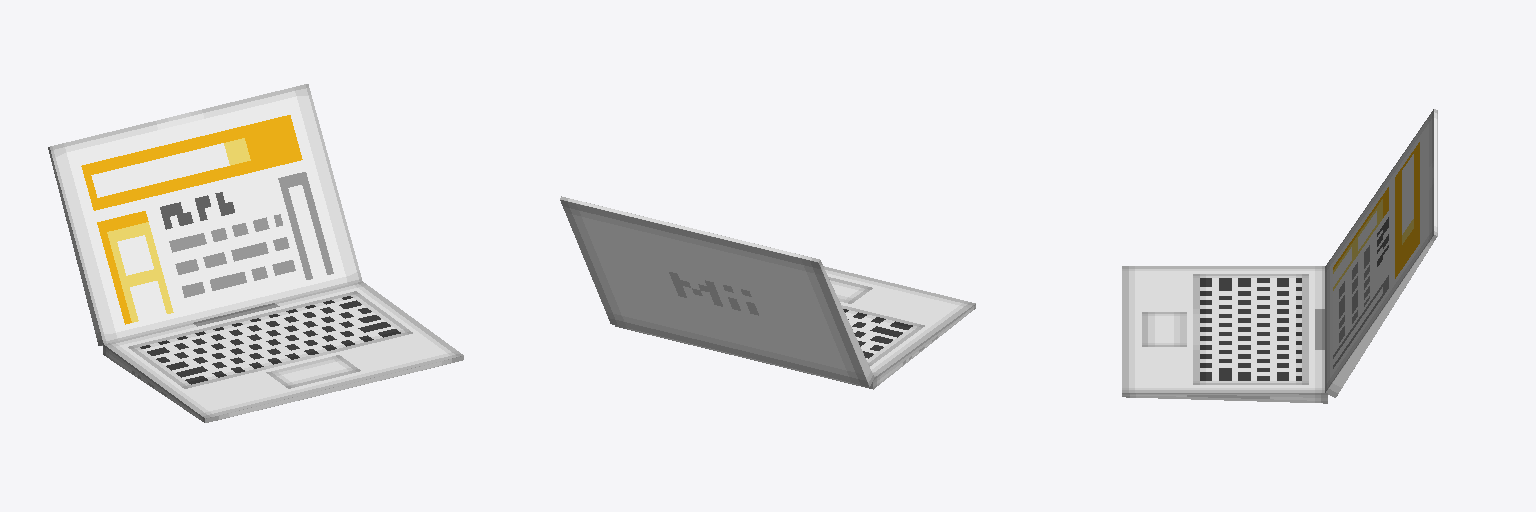
3 views of the same model, side by side, from view 1: azimuth 30°, elevation 25°; view 2: azimuth 150°, elevation 25°; view 3: azimuth 270°, elevation 25° (orthographic).
Visible parts, largest first — view 1: polygon1, polygon0; view 2: polygon1; view 3: polygon1, polygon0.
Part boxes in pixels (x1,y1,x2,y2): polygon1: (48,84,463,422); polygon0: (71,102,340,325); polygon1: (560,196,975,389); polygon1: (1122,109,1437,403); polygon0: (1333,128,1426,371).
Size of the model in its own units: 0.6987 by 0.4358 by 0.7366.
2 materials, 2 textured.